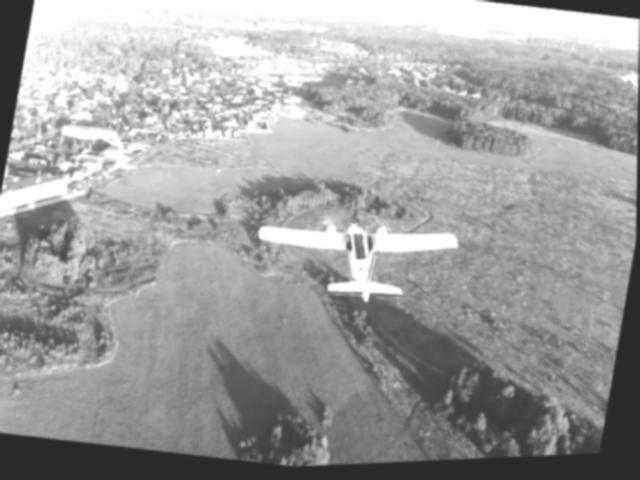hedef: (245, 201, 462, 329)
